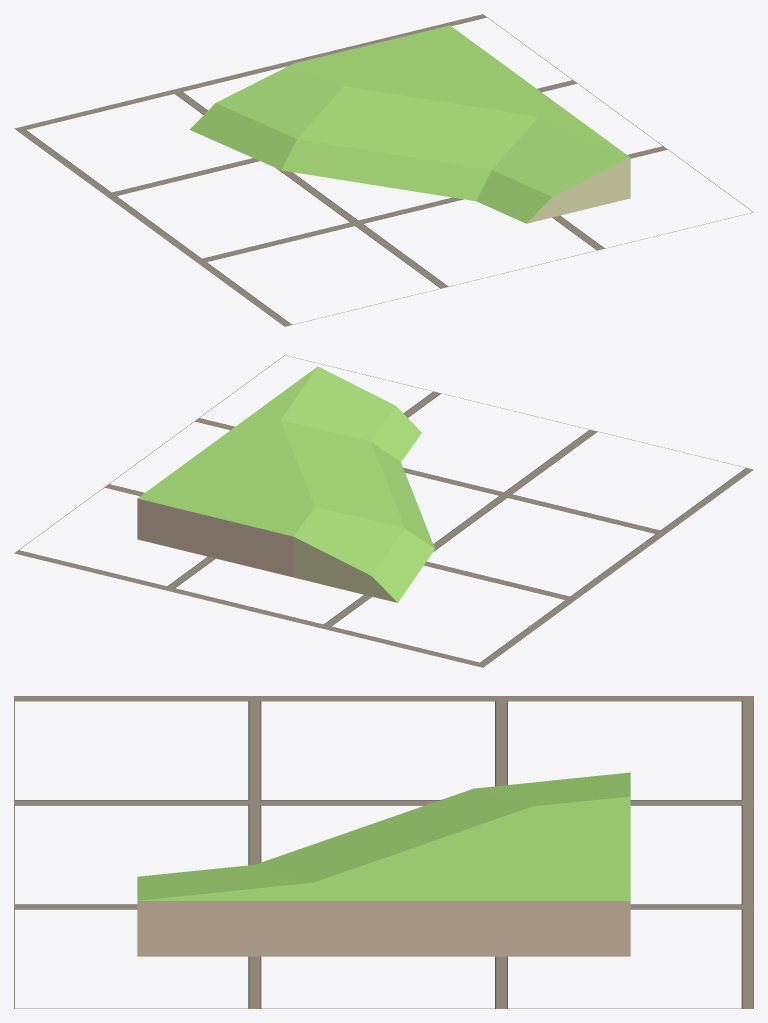
The model's file is Grass_Carpet_Esse_2x2.glb.
3 renders of one model, top to bottom at view 1: azimuth 30°, elevation 25°; view 2: azimuth 150°, elevation 25°; view 3: azimuth 270°, elevation 25°, orthographic. The views are drawn at different scales.
Parts seen in each view (by area): view 1: Grass_Carpet_Esse_2x2, Floor; view 2: Grass_Carpet_Esse_2x2, Floor; view 3: Grass_Carpet_Esse_2x2, Floor.
Part boxes in pixels (x1,y1,x2,y2): Grass_Carpet_Esse_2x2: (189, 25, 630, 223); Floor: (14, 14, 753, 326); Grass_Carpet_Esse_2x2: (137, 366, 434, 602); Floor: (14, 355, 753, 667); Grass_Carpet_Esse_2x2: (137, 772, 630, 956); Floor: (14, 696, 753, 1008).
Size of the model in its own units: 300 by 25 by 300.
5 materials, 1 textured.
